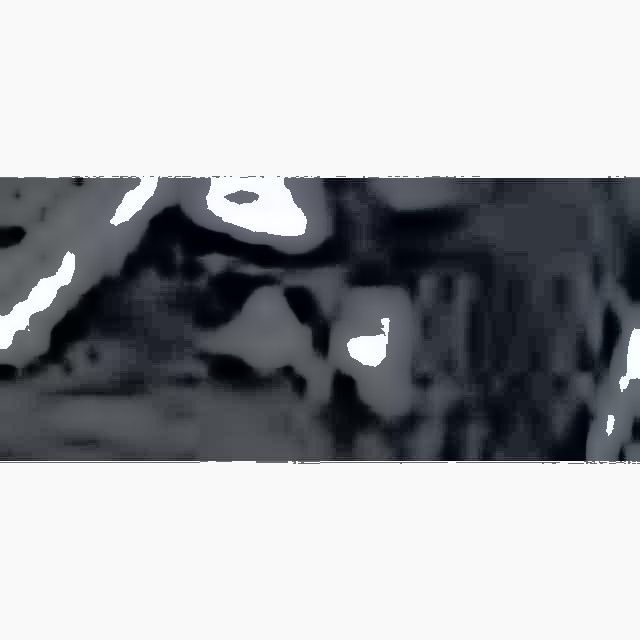pakai: (172, 252, 406, 412)
